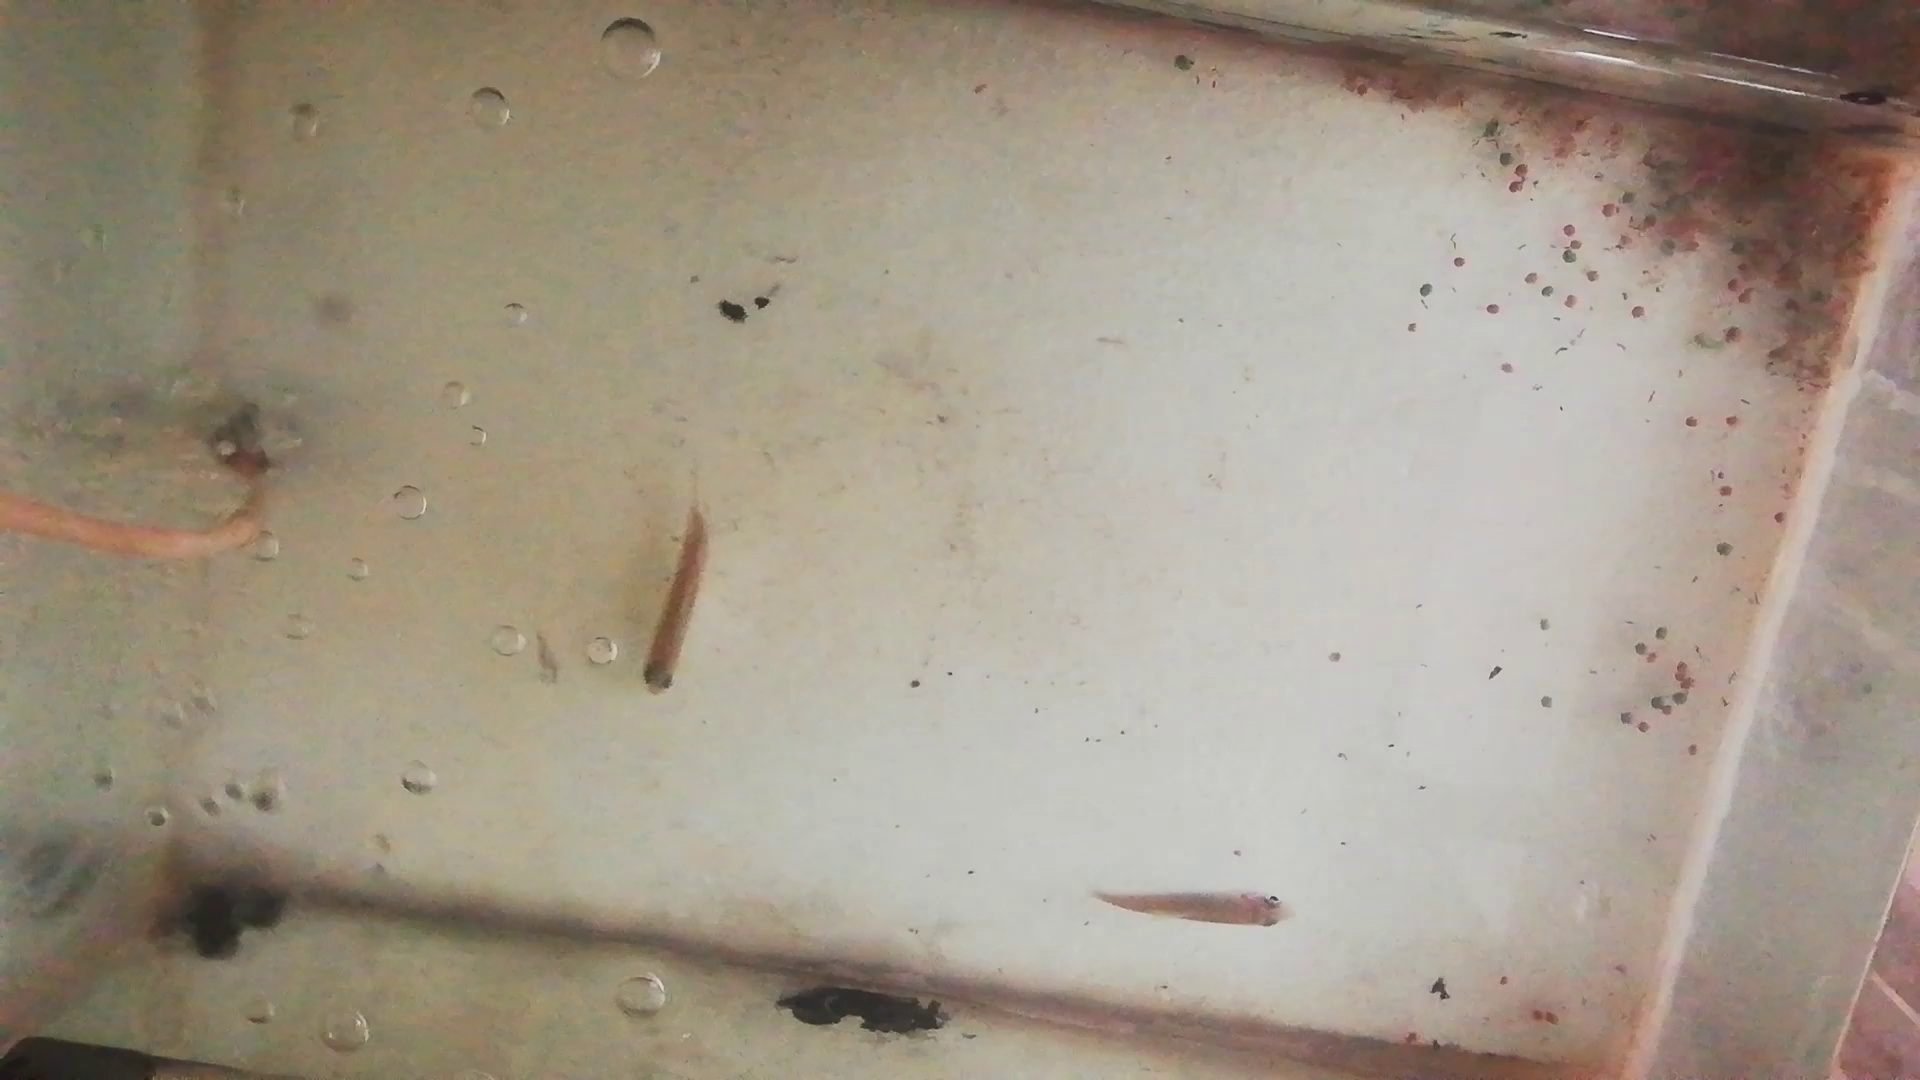fish: (638, 506, 711, 699), (1098, 880, 1290, 940)
